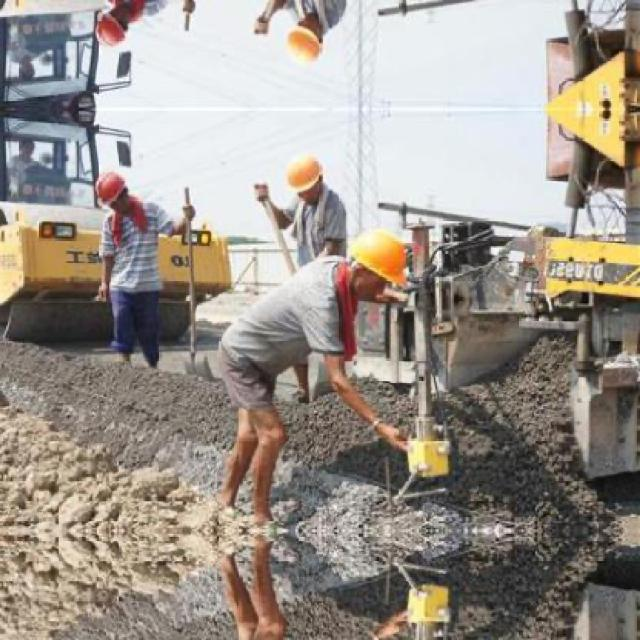con casco: (320, 206, 449, 300), (229, 129, 341, 215)
